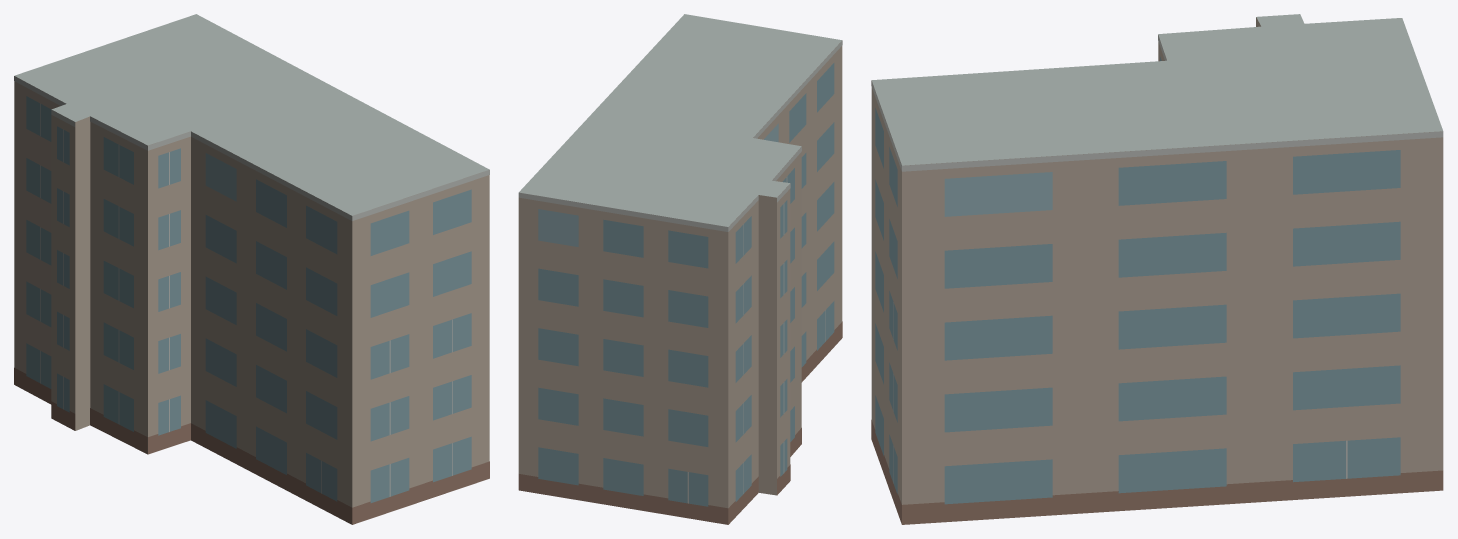
File: survey-upis-32706765.glb
3 renders of one model, left to right at view 1: azimuth 30°, elevation 25°; view 2: azimuth 150°, elevation 25°; view 3: azimuth 270°, elevation 25°, orthographic. The views are drawn at different scales.
Parts seen in each view (by area): view 1: survey-upis-32706765.tmp; view 2: survey-upis-32706765.tmp; view 3: survey-upis-32706765.tmp.
Boxes of the visible parts, <box> form: survey-upis-32706765.tmp: <box>14,14,489,524</box>; survey-upis-32706765.tmp: <box>518,14,842,524</box>; survey-upis-32706765.tmp: <box>871,14,1443,524</box>.
Bounding box in the file's own units: 12.95 × 14.3 × 20.64.
